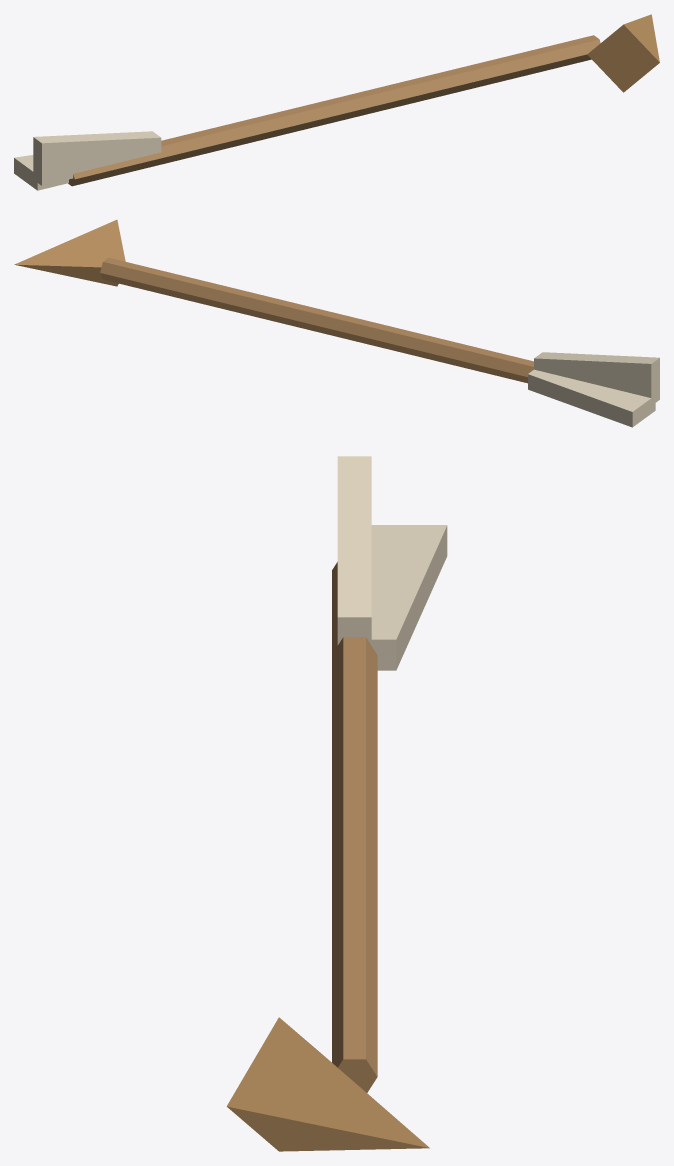
File: BronzeArrowStack6Plus.glb
The picture shows the model from 3 angles, top to bottom: view 1: azimuth 30°, elevation 25°; view 2: azimuth 150°, elevation 25°; view 3: azimuth 270°, elevation 25°; orthographic projection. The views are drawn at different scales.
Visible parts, largest first — view 1: BronzeArrow_7_shaft, BronzeArrow_7_fletch_v, BronzeArrow_1_fletch_v, BronzeArrow_4_head, BronzeArrow_3_shaft, BronzeArrow_6_shaft, BronzeArrow_1_shaft, BronzeArrow_2_shaft, BronzeArrow_5_shaft, BronzeArrow_7_head, BronzeArrow_2_fletch_v, BronzeArrow_4_shaft (+4 smaller); view 2: BronzeArrow_5_shaft, BronzeArrow_1_fletch_v, BronzeArrow_3_shaft, BronzeArrow_5_head, BronzeArrow_1_shaft, BronzeArrow_7_shaft, BronzeArrow_5_fletch_h, BronzeArrow_2_fletch_v, BronzeArrow_7_fletch_h, BronzeArrow_5_fletch_v, BronzeArrow_1_fletch_h, BronzeArrow_6_shaft (+6 smaller); view 3: BronzeArrow_7_head, BronzeArrow_7_shaft, BronzeArrow_5_shaft, BronzeArrow_3_shaft, BronzeArrow_6_head, BronzeArrow_1_fletch_v, BronzeArrow_1_shaft, BronzeArrow_1_fletch_h, BronzeArrow_7_fletch_h, BronzeArrow_7_fletch_v, BronzeArrow_3_head, BronzeArrow_3_fletch_h (+3 smaller).
Part boxes in pixels (x1=…): BronzeArrow_7_shaft: x1=73, y1=37, x2=599, y2=184; BronzeArrow_7_fletch_v: x1=33, y1=131, x2=161, y2=185; BronzeArrow_1_fletch_v: x1=33, y1=137, x2=160, y2=185; BronzeArrow_4_head: x1=587, y1=24, x2=659, y2=92; BronzeArrow_3_shaft: x1=68, y1=73, x2=511, y2=183; BronzeArrow_6_shaft: x1=69, y1=35, x2=600, y2=184; BronzeArrow_1_shaft: x1=68, y1=51, x2=581, y2=186; BronzeArrow_2_shaft: x1=69, y1=55, x2=591, y2=182; BronzeArrow_5_shaft: x1=69, y1=54, x2=589, y2=182; BronzeArrow_7_head: x1=628, y1=14, x2=659, y2=62; BronzeArrow_2_fletch_v: x1=33, y1=137, x2=158, y2=185; BronzeArrow_4_shaft: x1=349, y1=42, x2=597, y2=114; BronzeArrow_5_shaft: x1=186, y1=292, x2=533, y2=376; BronzeArrow_1_fletch_v: x1=534, y1=358, x2=659, y2=401; BronzeArrow_3_shaft: x1=100, y1=262, x2=525, y2=376; BronzeArrow_5_head: x1=15, y1=220, x2=125, y2=286; BronzeArrow_1_shaft: x1=100, y1=262, x2=511, y2=375; BronzeArrow_7_shaft: x1=101, y1=257, x2=418, y2=338; BronzeArrow_5_fletch_h: x1=528, y1=375, x2=655, y2=427; BronzeArrow_2_fletch_v: x1=534, y1=359, x2=659, y2=404; BronzeArrow_7_fletch_h: x1=528, y1=369, x2=650, y2=411; BronzeArrow_5_fletch_v: x1=534, y1=359, x2=659, y2=402; BronzeArrow_1_fletch_h: x1=528, y1=375, x2=655, y2=426; BronzeArrow_6_shaft: x1=121, y1=262, x2=527, y2=382; BronzeArrow_7_head: x1=227, y1=1018, x2=429, y2=1151; BronzeArrow_7_shaft: x1=332, y1=671, x2=377, y2=1083; BronzeArrow_5_shaft: x1=343, y1=637, x2=377, y2=1091; BronzeArrow_3_shaft: x1=332, y1=562, x2=377, y2=1087; BronzeArrow_6_head: x1=228, y1=1017, x2=428, y2=1147; BronzeArrow_1_fletch_v: x1=337, y1=456, x2=371, y2=644; BronzeArrow_1_shaft: x1=338, y1=816, x2=376, y2=1092; BronzeArrow_1_fletch_h: x1=369, y1=525, x2=447, y2=670; BronzeArrow_7_fletch_h: x1=371, y1=525, x2=446, y2=669; BronzeArrow_7_fletch_v: x1=337, y1=456, x2=371, y2=643; BronzeArrow_3_head: x1=229, y1=1022, x2=427, y2=1147; BronzeArrow_3_fletch_h: x1=368, y1=525, x2=446, y2=666.
Size of the model in its own units: 1.01 by 0.117 by 0.1548.
